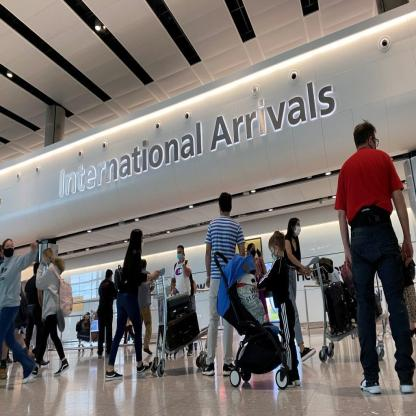airport-trolley: (303, 252, 393, 376), (146, 266, 220, 376), (75, 309, 104, 357)
